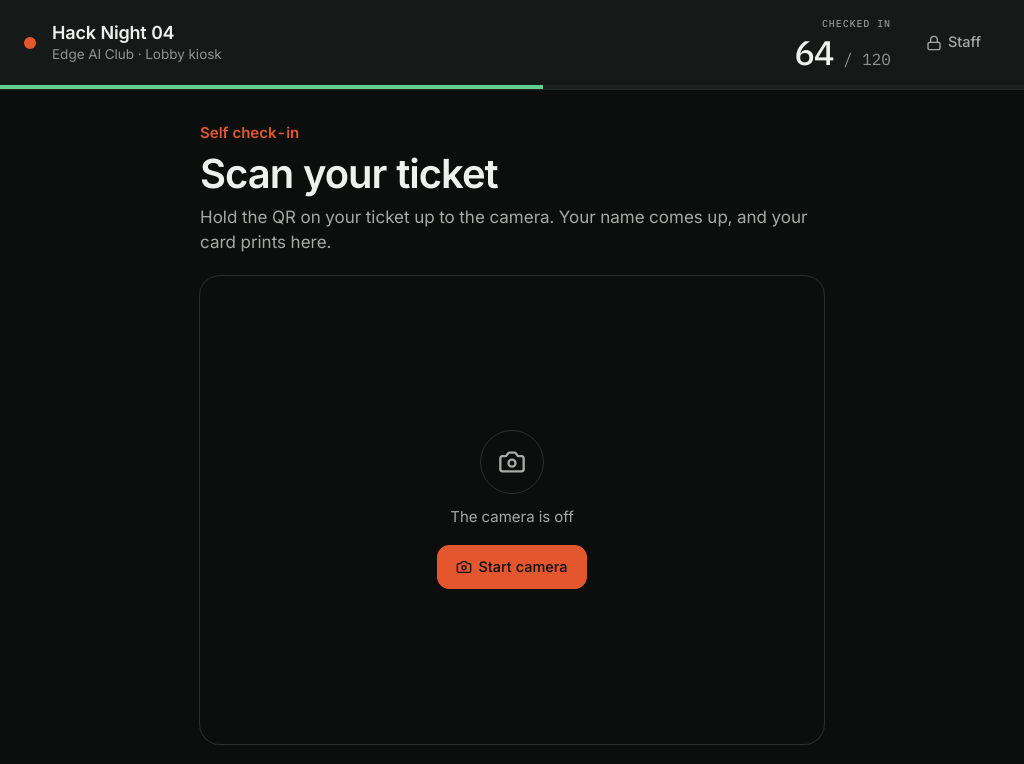
Test: the kiosk › opens staff mode behind the PIN
This screenshot has width=1024, height=764.
Click the button "Staff" at point(954, 42), box [907,20,1000,64]
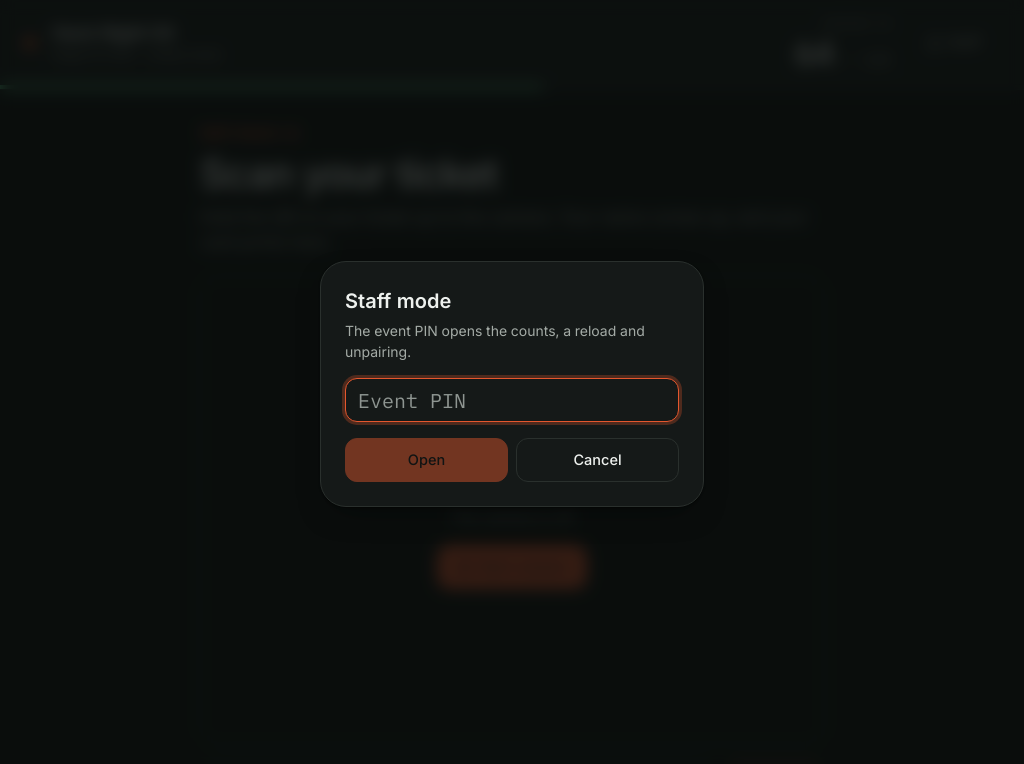
Type "4321" into the password field labelled "Event PIN" at point(512, 400), box [345,378,679,422]
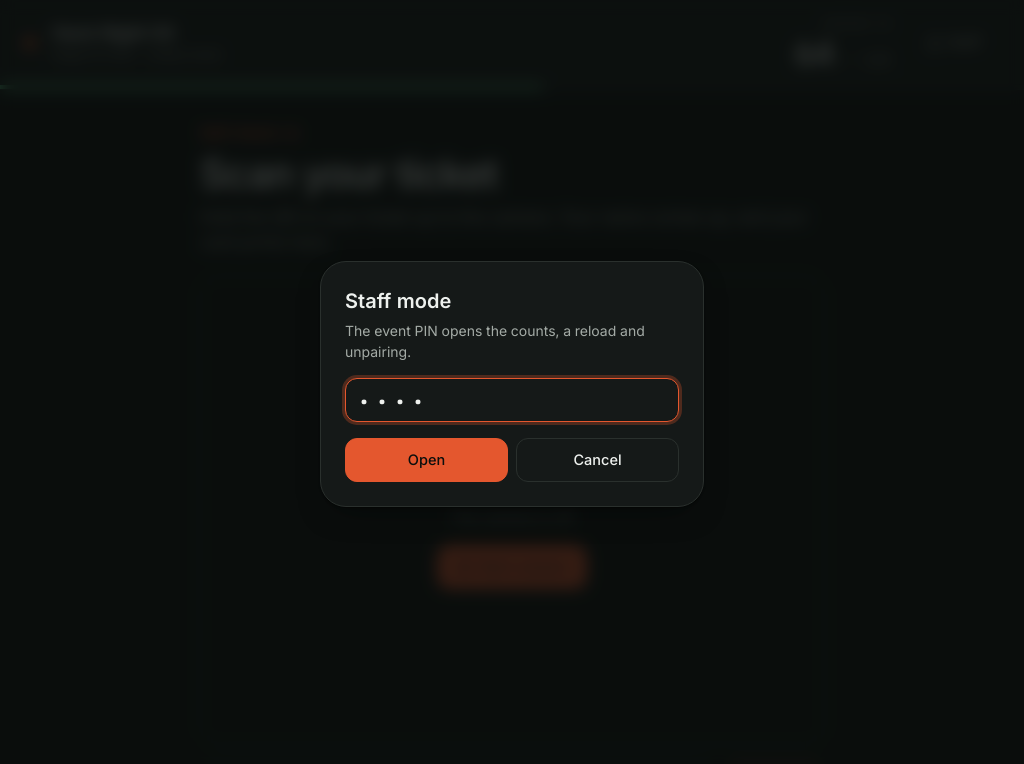
Click the button "Open" at point(426, 460), box [345,438,508,482]
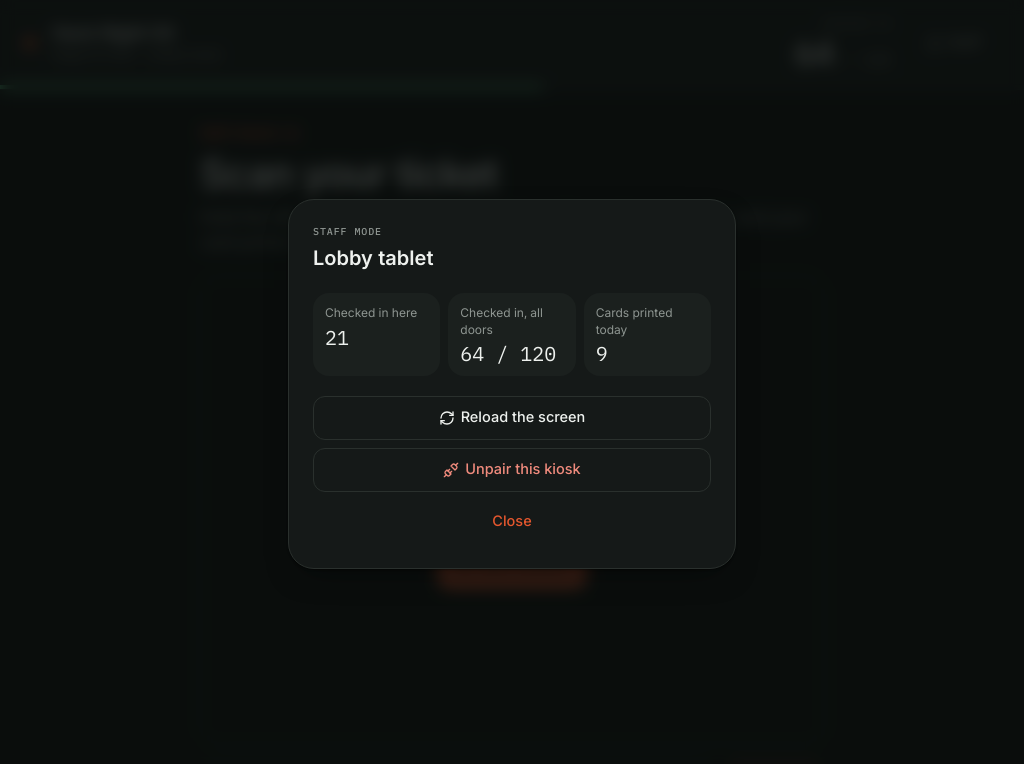
Now the text "Cards printed today" is shown, box [596,305,673,336]
Now the button "Unpair this kiosk" is shown, box [313,448,711,492]
